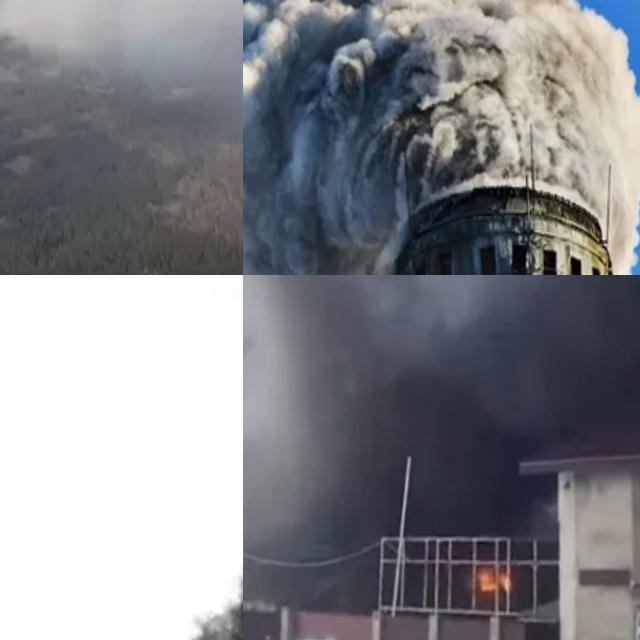smoke: (243, 275, 640, 603), (243, 0, 640, 275), (38, 275, 243, 640)
